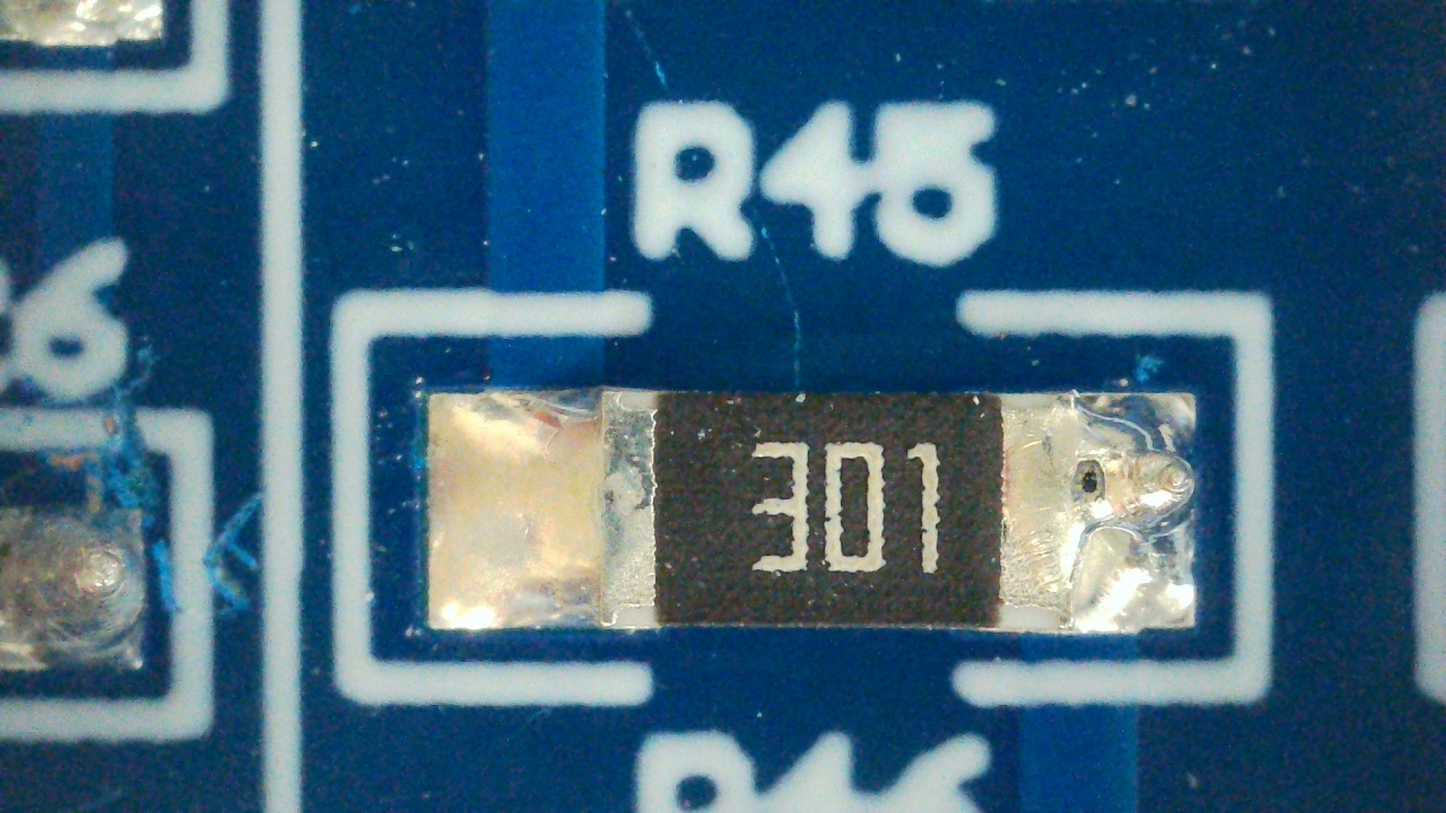OK: (425, 392, 1198, 631)
